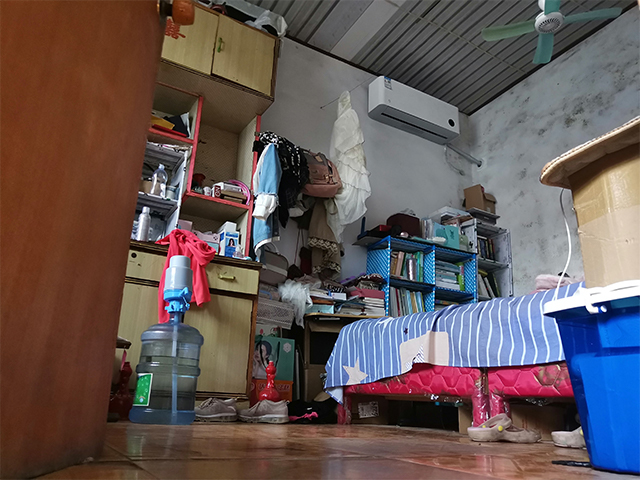bed: (320, 277, 594, 435)
cabinet: (122, 244, 264, 420)
slippers: (466, 411, 542, 445)
